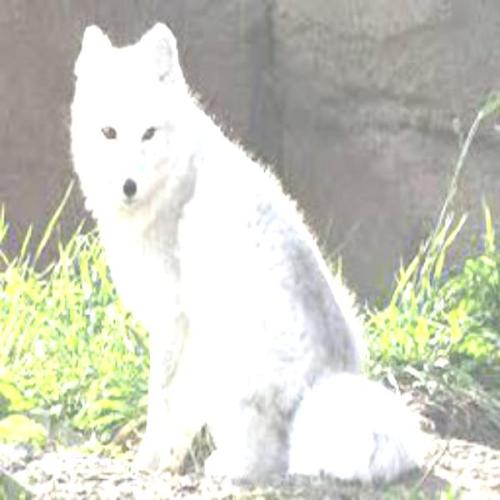arctic_fox-endangered: (68, 23, 426, 479)
